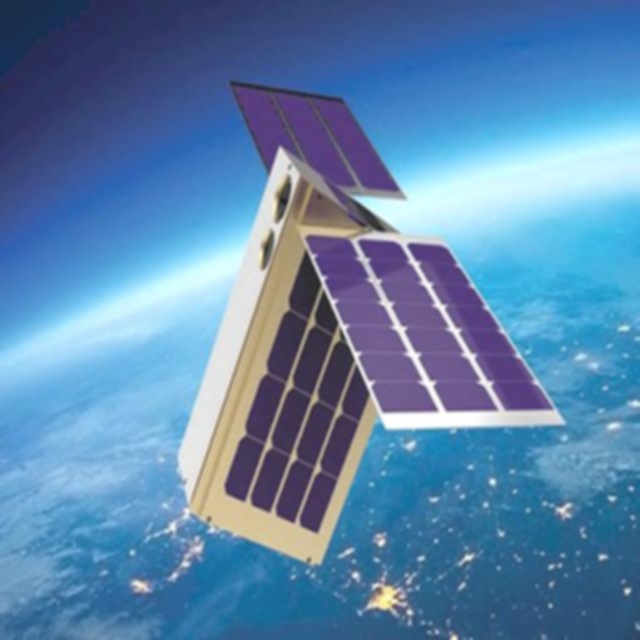medium_debris: (170, 62, 572, 586)
